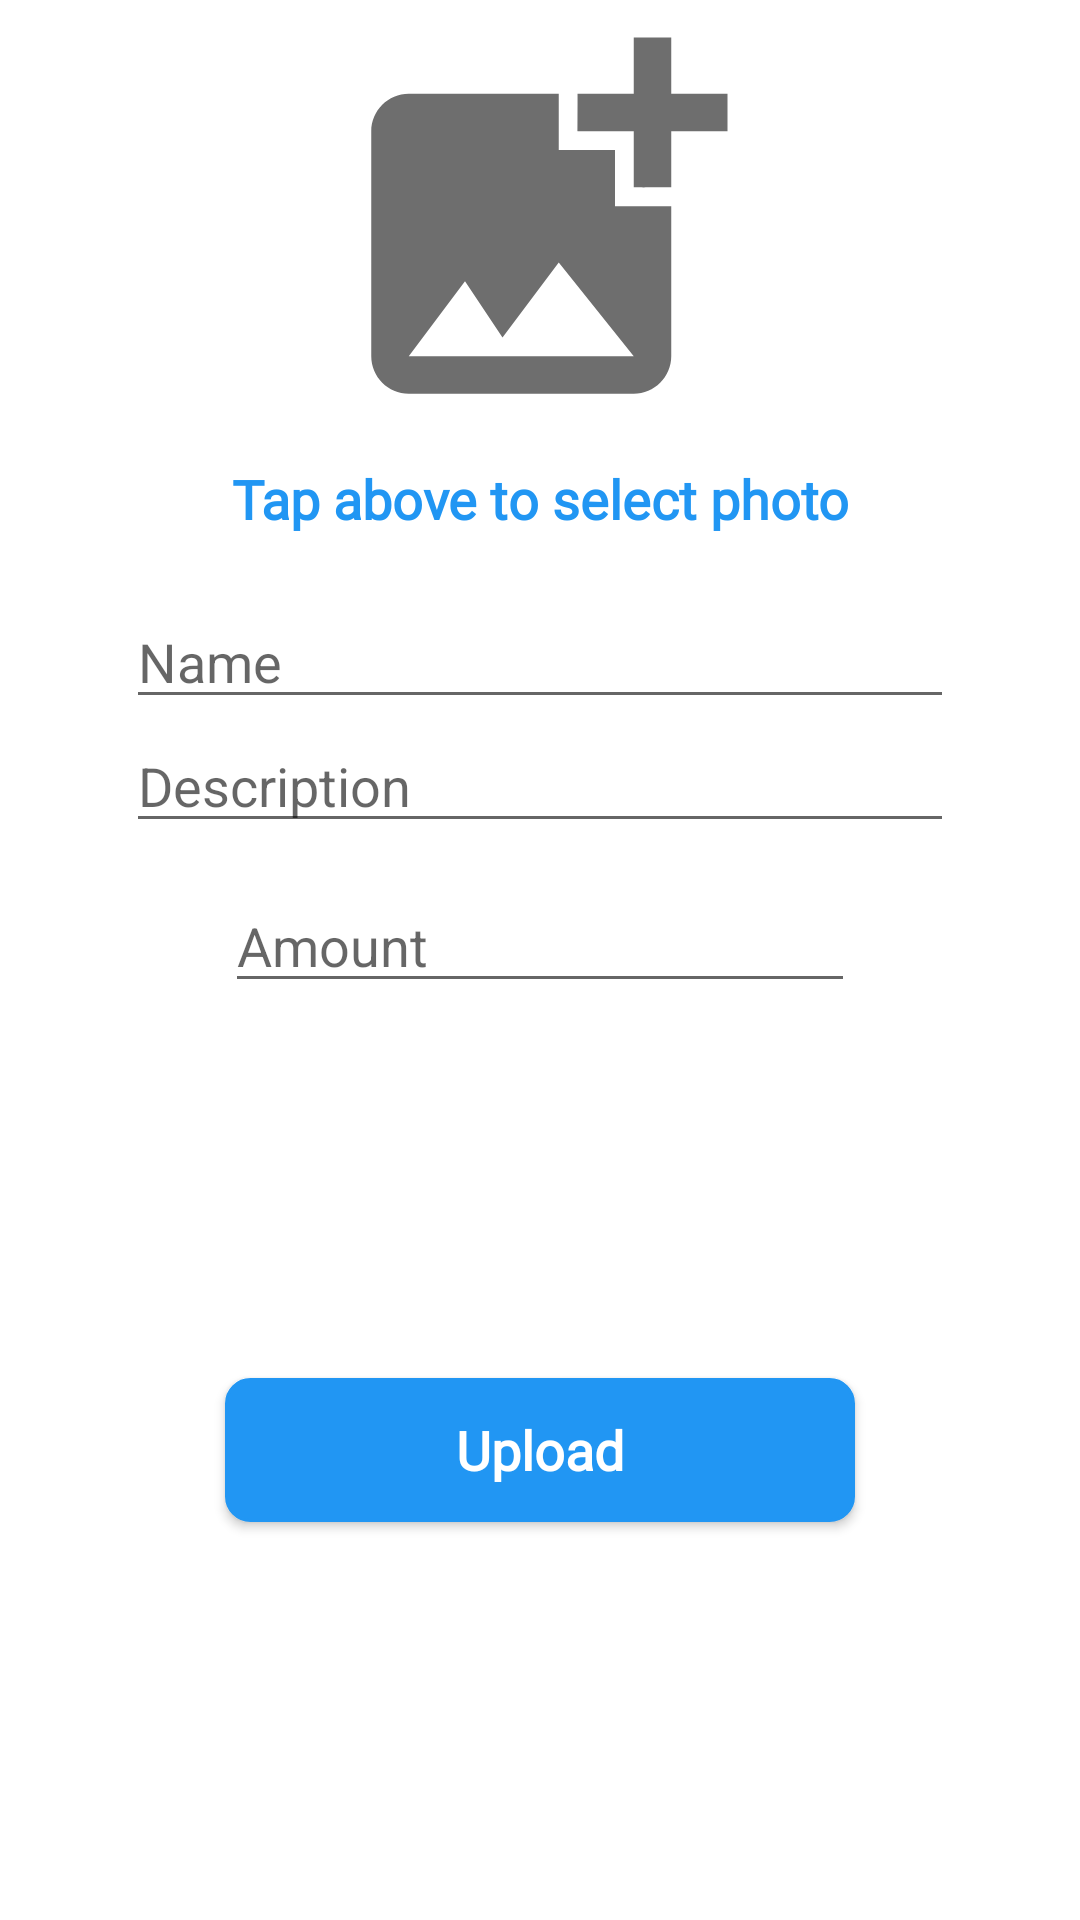

Point at icon controls on the screen. Image size 1080*1920, points as [x,y].
add photo alternate: [549,215]
